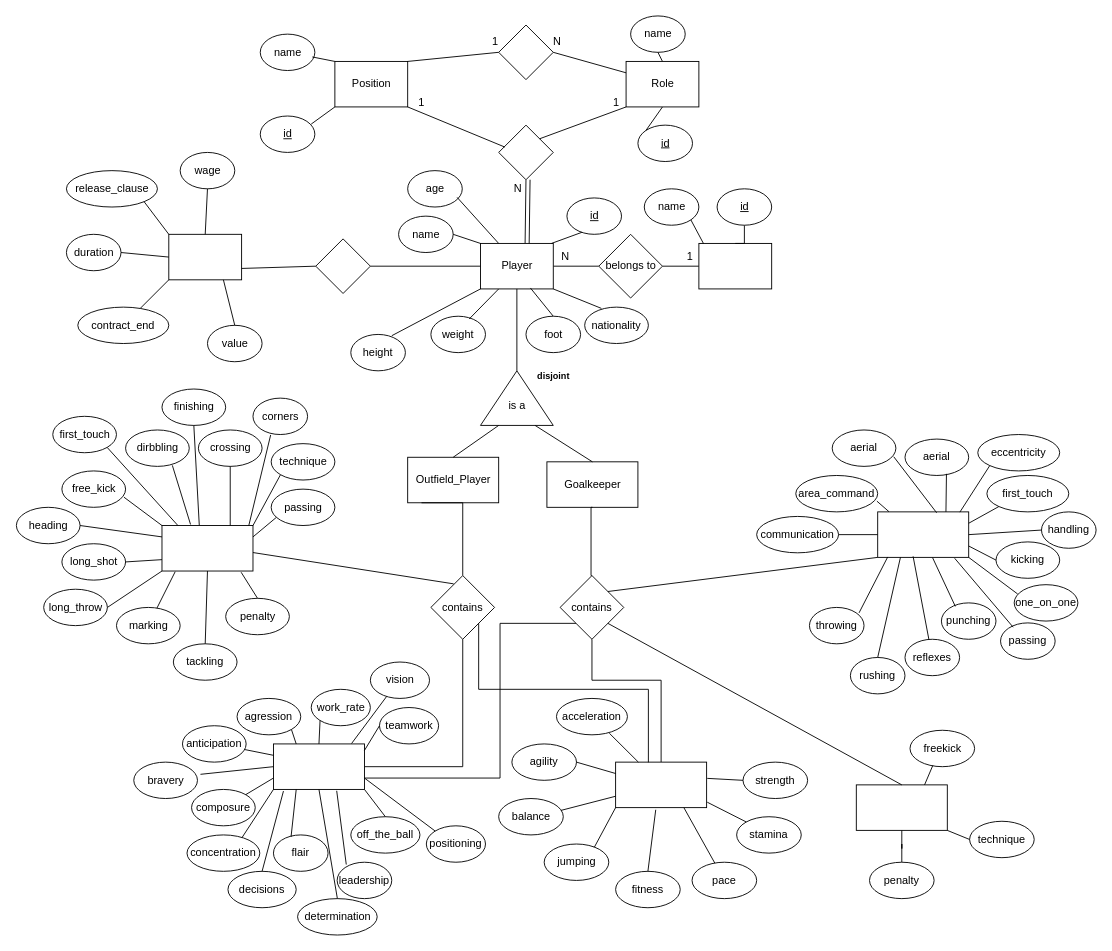
The diagram is 1112 pixels wide and 951 high, and some of its shapes have lost their labels. Here are the shapes that lost their labels. From the top down, the centre of each, then its label:
At point (525, 52): "for".
At point (525, 152): "plays in".
At point (205, 256): "Contract".
At point (342, 265): "has a".
At point (735, 266): "Club".
At point (207, 548): "Technical_Att".
At point (923, 534): "Goalkeeping_Att".
At point (318, 766): "Mental_Att".
At point (661, 784): "Physical_Att".
At point (901, 807): "Gk_Technical_Att".
